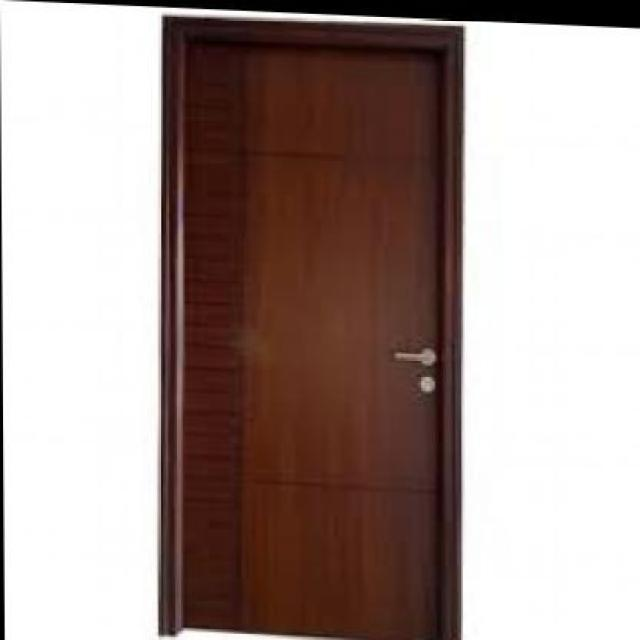door: (169, 26, 458, 640)
